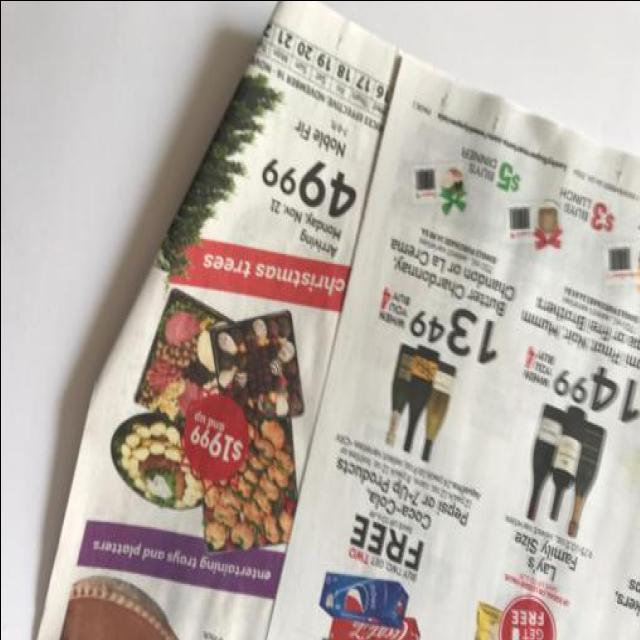kertas: (32, 0, 640, 640)
